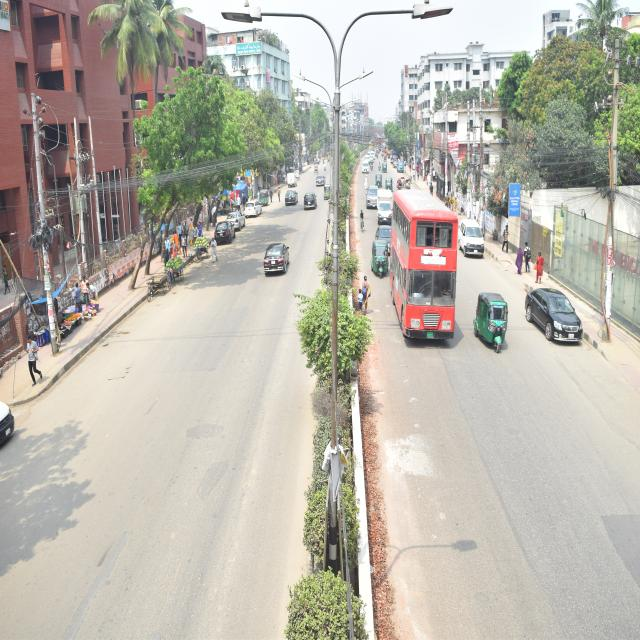bus: (392, 186, 461, 362)
car: (516, 258, 606, 373), (253, 233, 295, 300), (456, 206, 489, 276), (209, 204, 237, 259), (224, 190, 248, 240), (375, 220, 398, 264), (246, 185, 266, 226), (309, 168, 336, 196), (282, 179, 300, 217), (361, 183, 383, 214), (305, 180, 320, 222), (361, 154, 369, 181)
pickup-van: (375, 183, 397, 230), (286, 160, 303, 190)
